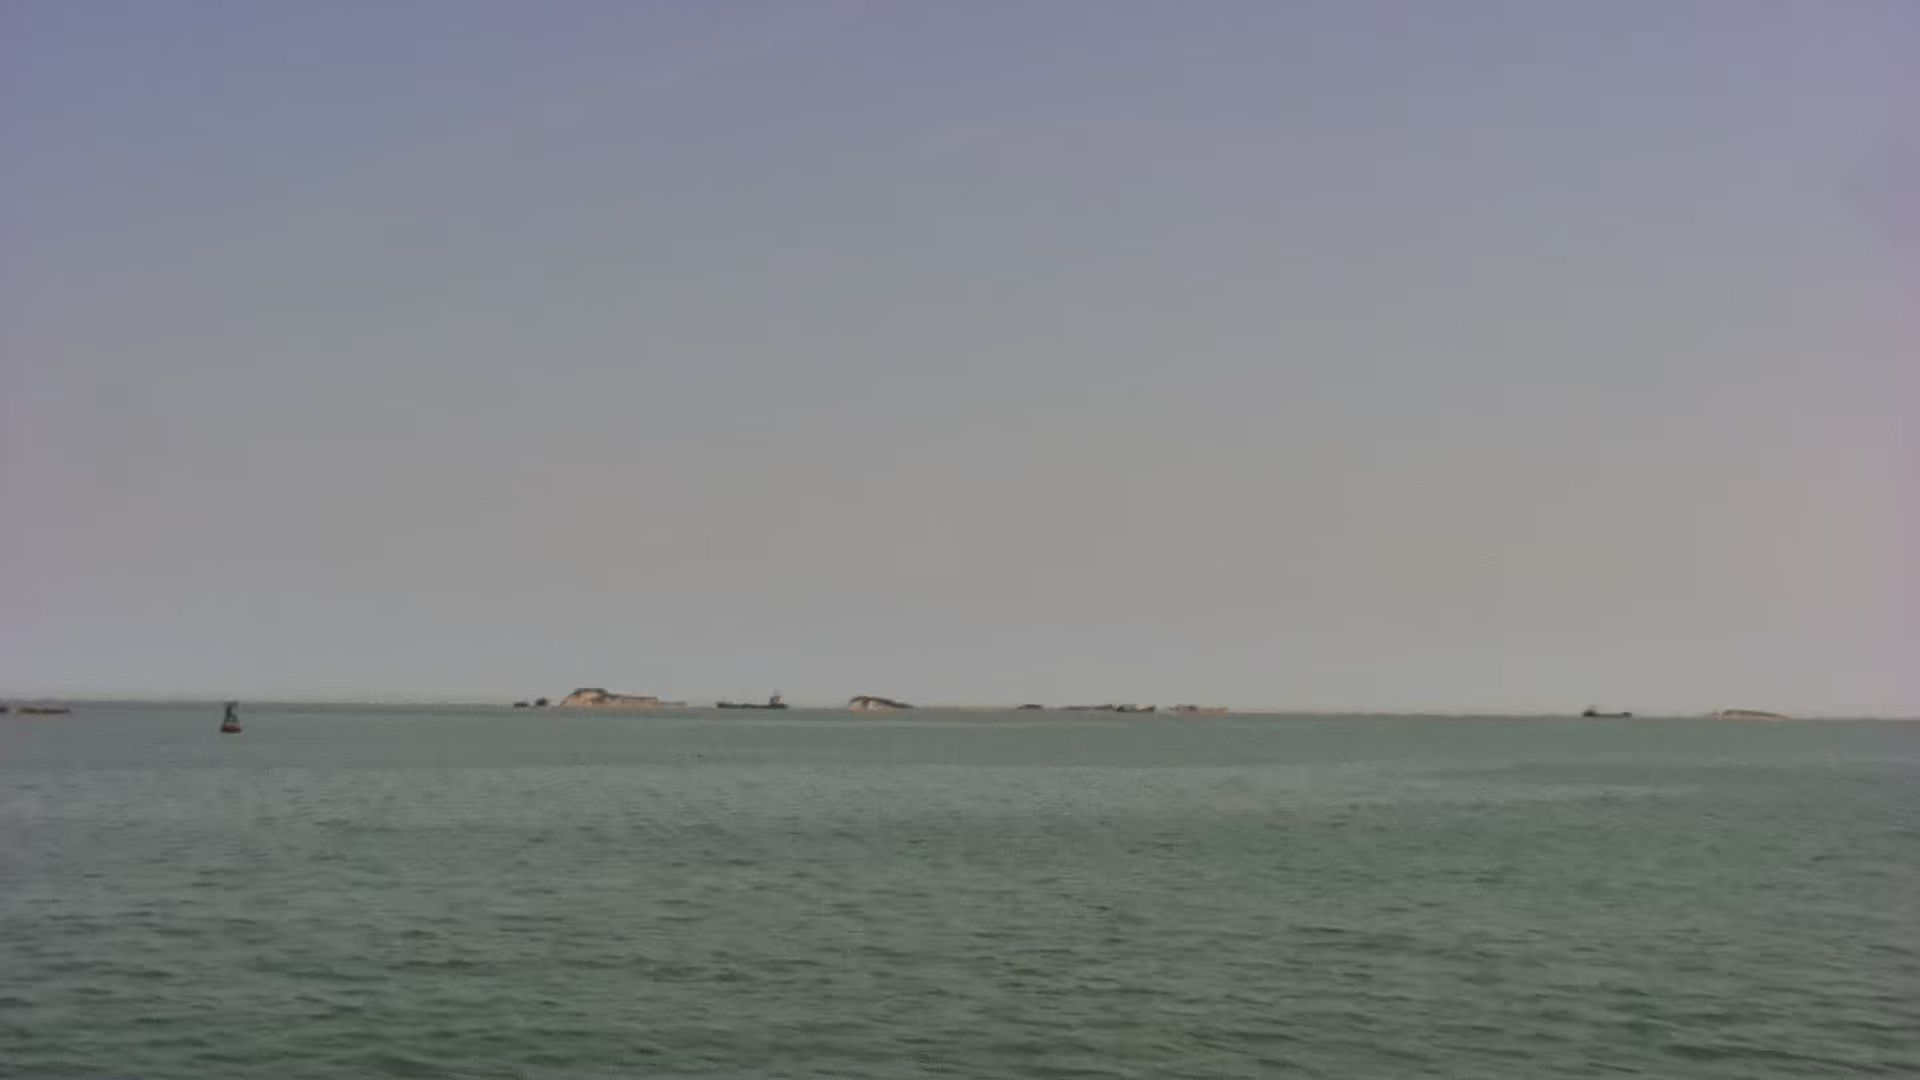buoy: (215, 694, 245, 742)
rock: (512, 684, 688, 713), (843, 688, 918, 713)
ship: (713, 694, 791, 712)
